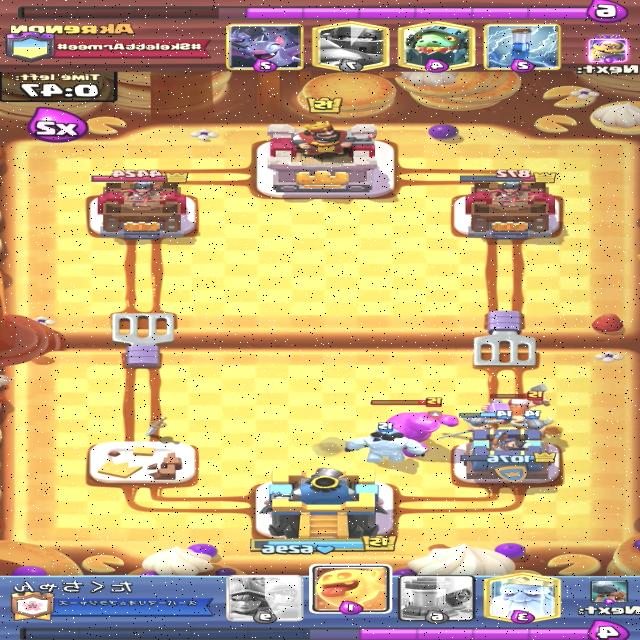Enemy-ElixirGolem: (369, 398, 458, 457)
Enemy-Lumberjack: (471, 382, 552, 427)
Player-EliteBarbarian: (443, 409, 513, 446), (504, 409, 556, 444)
Player-IceGolem: (344, 420, 432, 464)
